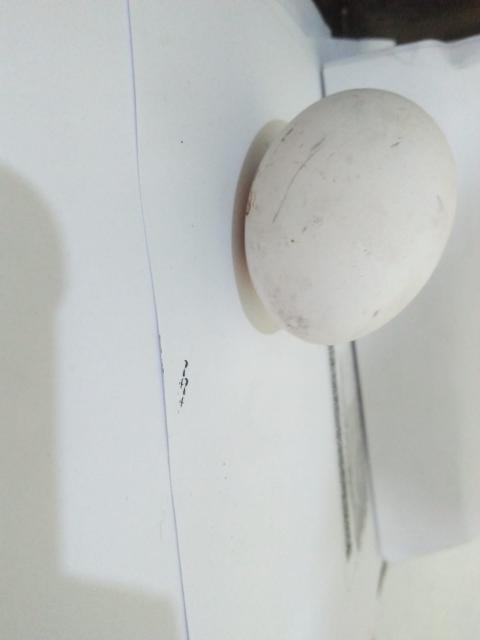Sano: (246, 88, 456, 347)
